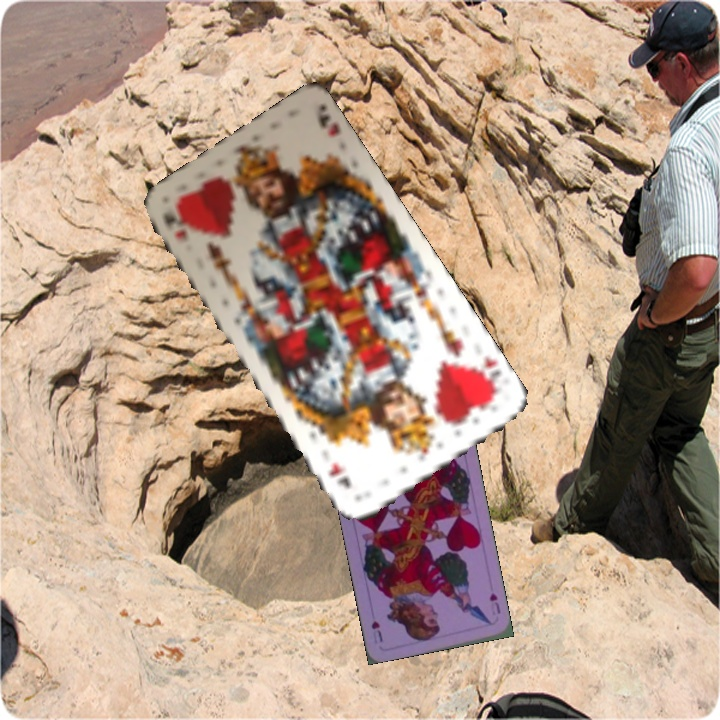HK: (469, 351, 505, 403), (159, 208, 191, 244)
HU: (485, 589, 503, 616)
